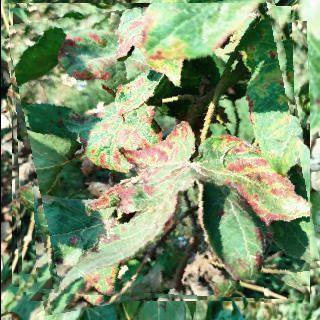blight: (7, 3, 309, 305)
